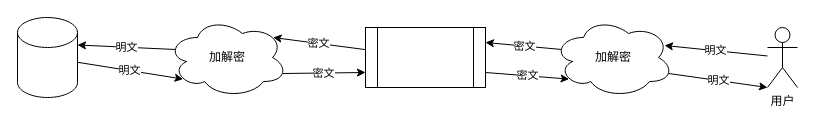
The diagram is 815 pixels wide and 126 high, and some of its shapes have lost their labels. The centre of each missing label's shape, as x and y in pixels:
DB: point 47,57
服务: point 425,57
